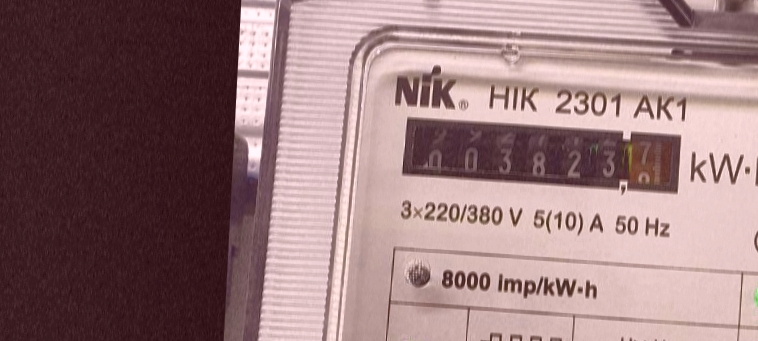0: (456, 143, 477, 171), (422, 145, 441, 169)
2: (561, 147, 581, 180)
3: (596, 147, 615, 178), (492, 144, 511, 174)
7: (633, 139, 651, 168)
8: (526, 148, 544, 177)
9: (425, 124, 444, 144)
screen: (391, 112, 683, 198)
